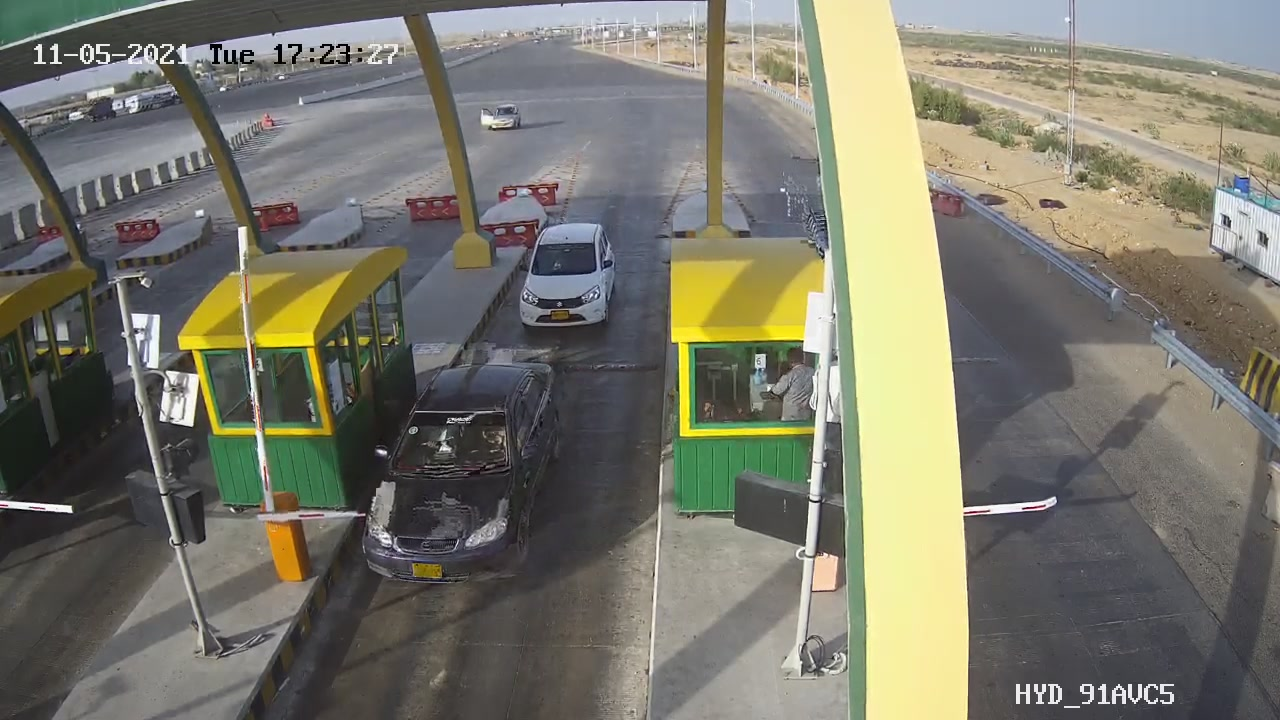F1: (499, 212, 637, 342)
